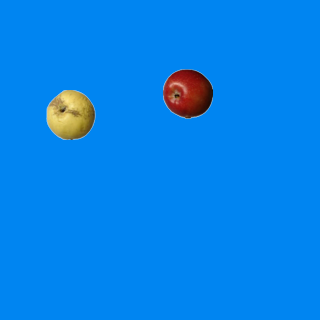Apple Braeburn: (162, 68, 212, 118)
Apple Golden 1: (45, 89, 95, 139)
